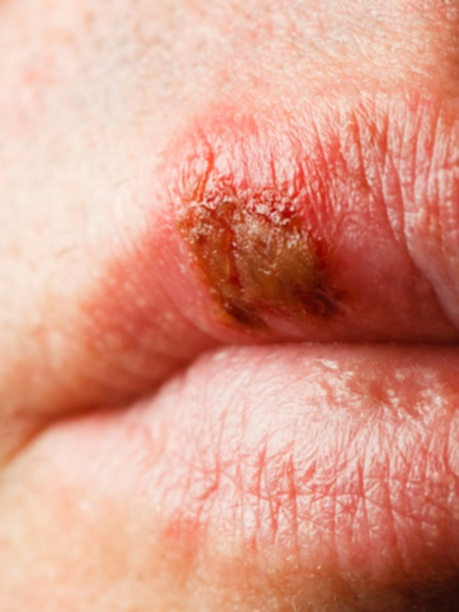Ulcer: (186, 191, 364, 333)
